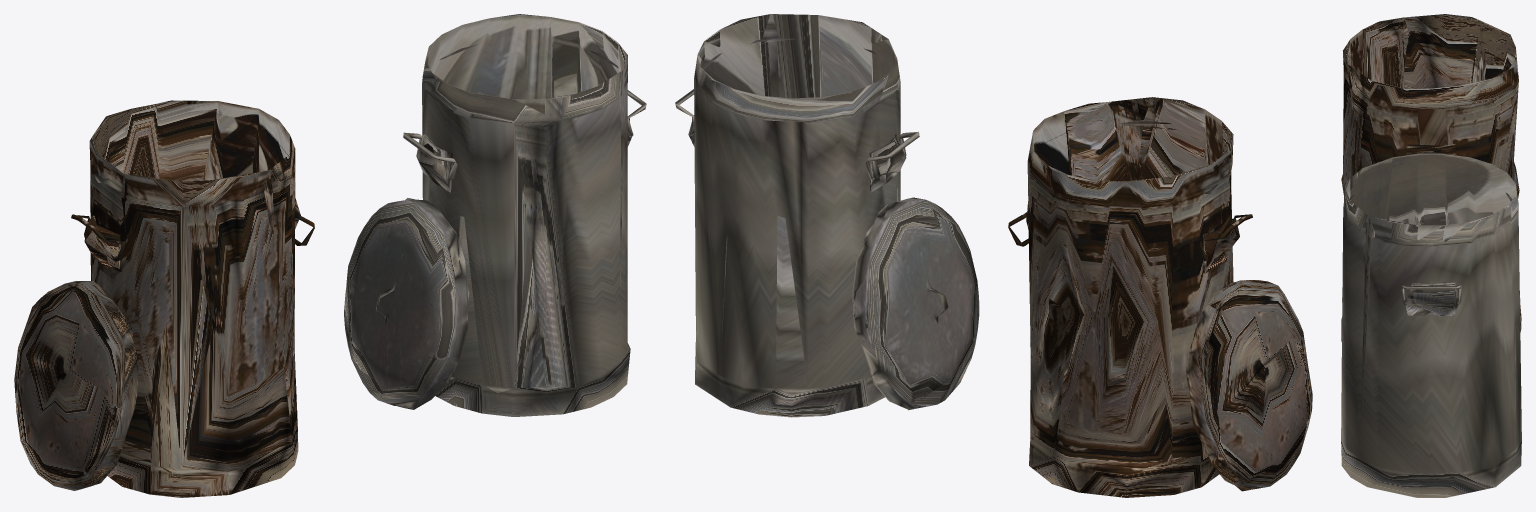
File: metal_trash_can.glb
3 renders of one model, left to right at view 1: azimuth 30°, elevation 25°; view 2: azimuth 150°, elevation 25°; view 3: azimuth 270°, elevation 25°, orthographic. The views are drawn at different scales.
Parts seen in each view (by area): view 1: metal_trash_can, metal_trash_can_rust, metal_trash_can_lid, metal_trash_can_rust_lid; view 2: metal_trash_can, metal_trash_can_rust, metal_trash_can_lid, metal_trash_can_rust_lid; view 3: metal_trash_can, metal_trash_can_rust, metal_trash_can_handle_right.
Boxes of the visible parts, box(x1,y1,x2,y2) form: metal_trash_can: box(416, 14, 632, 416); metal_trash_can_rust: box(84, 100, 300, 497); metal_trash_can_lid: box(344, 198, 469, 409); metal_trash_can_rust_lid: box(14, 281, 138, 490); metal_trash_can: box(688, 14, 906, 417); metal_trash_can_rust: box(1026, 97, 1236, 497); metal_trash_can_lid: box(852, 197, 979, 410); metal_trash_can_rust_lid: box(1186, 280, 1312, 491); metal_trash_can: box(1341, 152, 1521, 497); metal_trash_can_rust: box(1342, 14, 1521, 318); metal_trash_can_handle_right: box(1401, 285, 1461, 304).
Bounding box in the file's own units: 1.77 × 0.9062 × 0.5491.
Materials: 2 (2 with a texture image).
